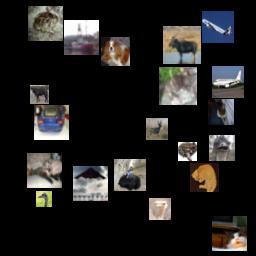airplane: (73, 166, 108, 201), (202, 11, 234, 43), (212, 66, 244, 98)
automobile: (34, 105, 69, 140)
bird: (114, 159, 146, 191), (209, 135, 235, 161), (149, 198, 171, 220), (36, 191, 52, 207)
cat: (159, 67, 197, 105), (27, 153, 62, 188), (212, 216, 247, 251), (190, 163, 219, 192), (208, 99, 234, 125)
deer: (163, 26, 201, 64), (146, 118, 168, 140)
dog: (101, 37, 130, 66)
frog: (28, 6, 63, 41), (178, 142, 197, 161)
ship: (64, 20, 99, 55)
